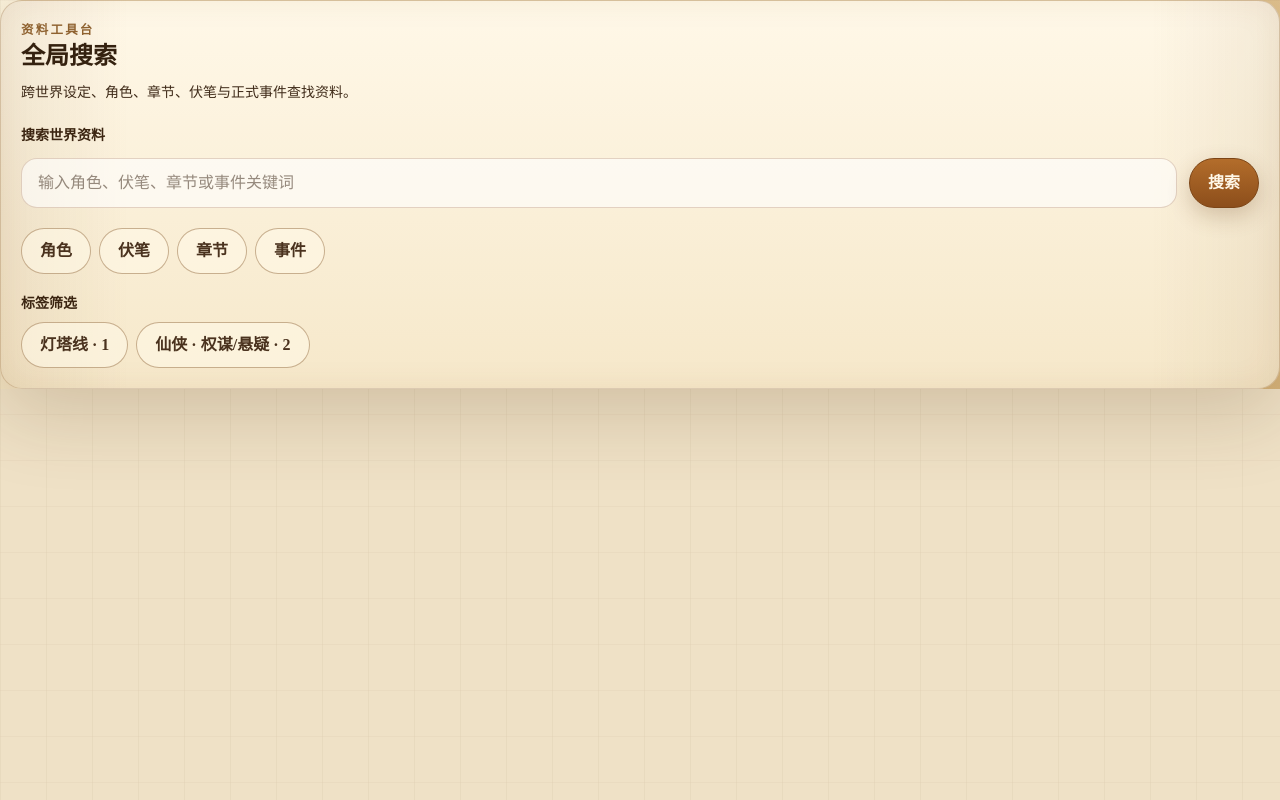
it: WorldSearchPanel › hides search-result bulk tagging in read-only mode while preserving search results
This screenshot has width=1280, height=800.
Type "灯塔" into the field labelled "搜索世界资料" at (599, 183), box [21,158,1177,208]
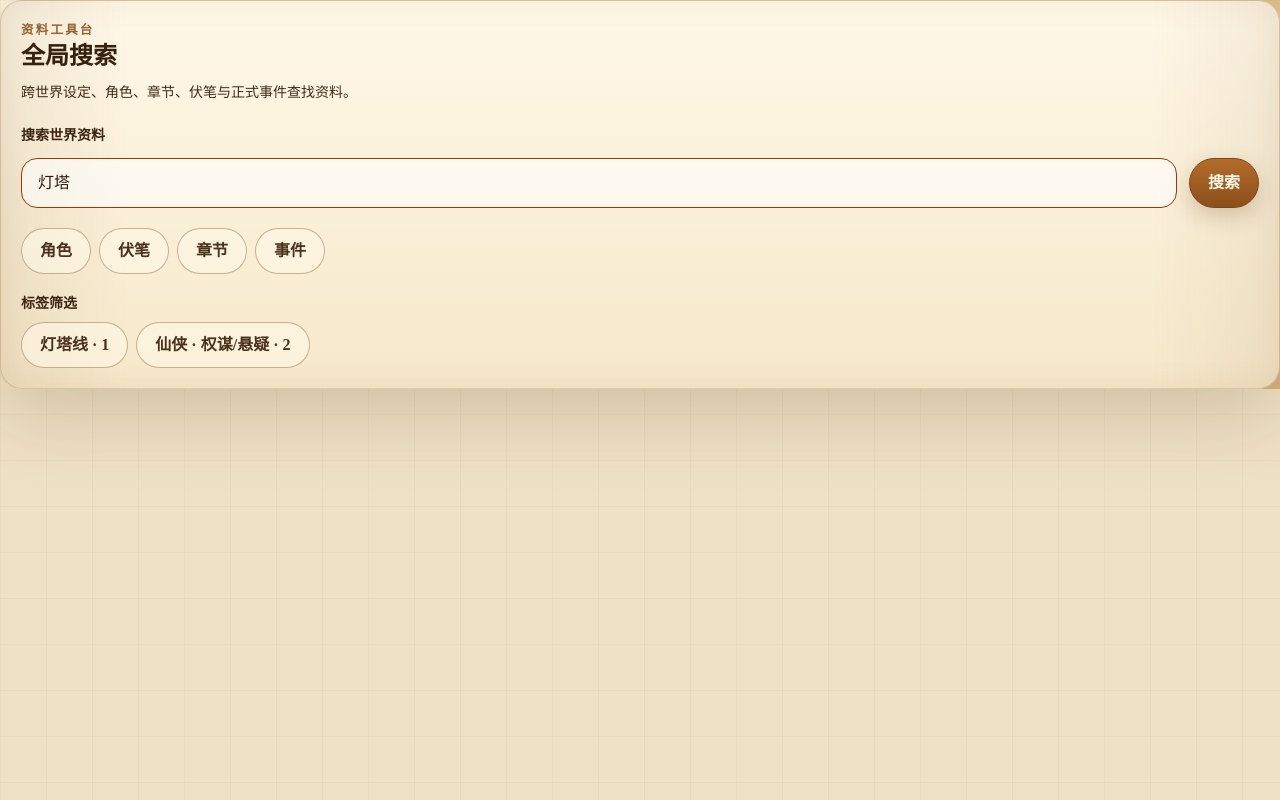
Click the button "搜索" at (1224, 183), box [1189,158,1259,208]
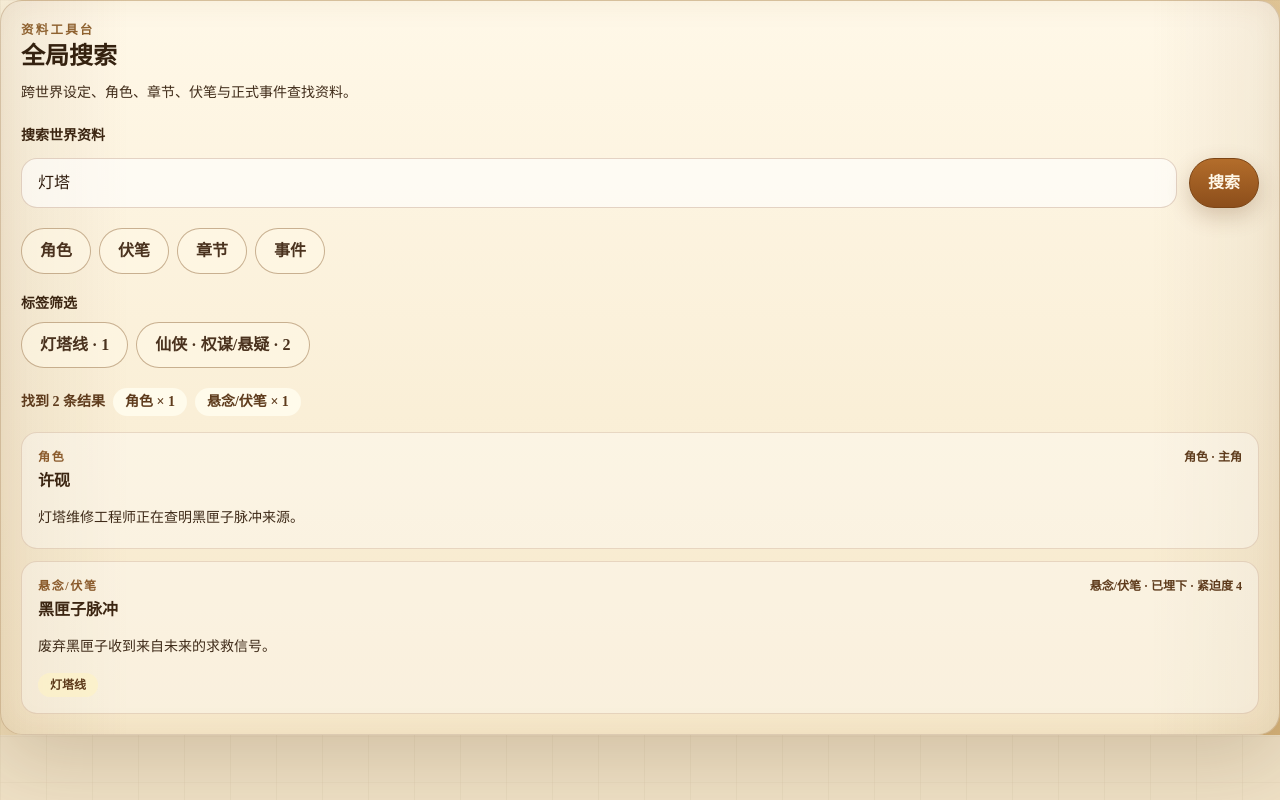
Expected: the button "灯塔线 · 1" is shown, [21,322,128,368]
Expected: the heading "许砚" is shown, [38,469,70,493]
